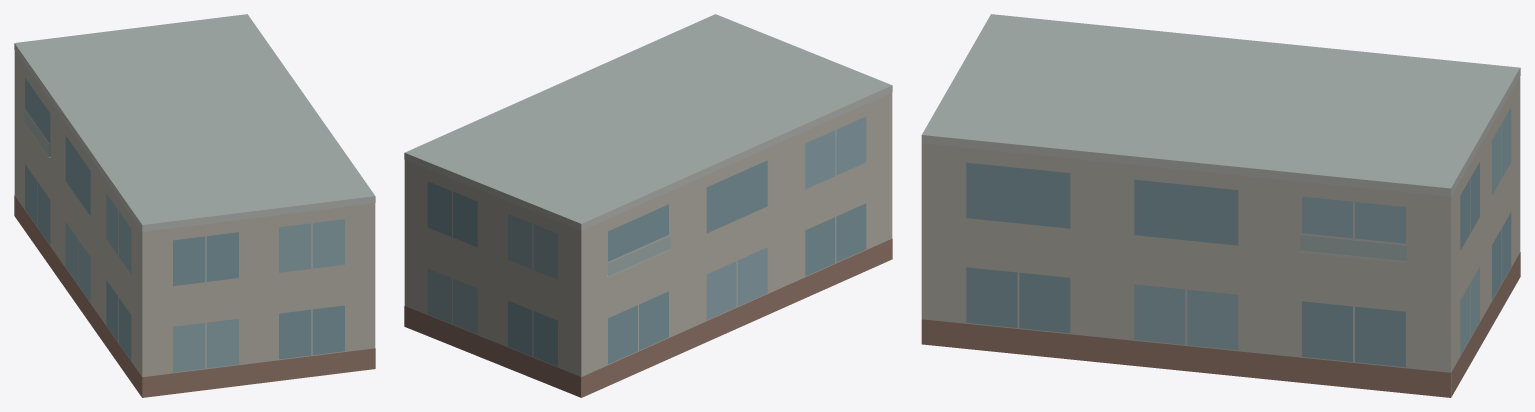
File: survey-upis-32825668.glb
3 renders of one model, left to right at view 1: azimuth 30°, elevation 25°; view 2: azimuth 150°, elevation 25°; view 3: azimuth 270°, elevation 25°, orthographic. The views are drawn at different scales.
Visible parts, largest first — view 1: survey-upis-32825668.tmp; view 2: survey-upis-32825668.tmp; view 3: survey-upis-32825668.tmp.
Boxes of the visible parts, bbox=[...] form: survey-upis-32825668.tmp: bbox=[14, 14, 375, 397]; survey-upis-32825668.tmp: bbox=[404, 14, 892, 397]; survey-upis-32825668.tmp: bbox=[921, 14, 1520, 397].
Size of the model in its own units: 10.91 by 6.1 by 15.82.
